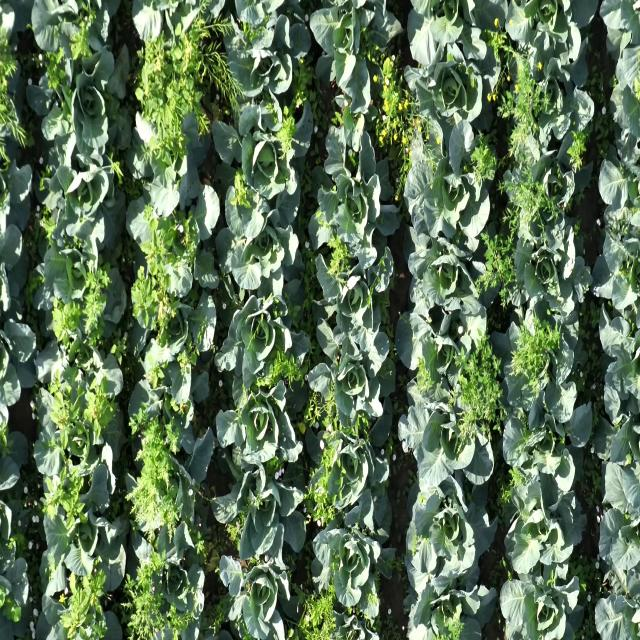holes: (210, 96, 319, 226), (126, 163, 222, 300), (405, 219, 494, 352), (503, 0, 595, 70)
